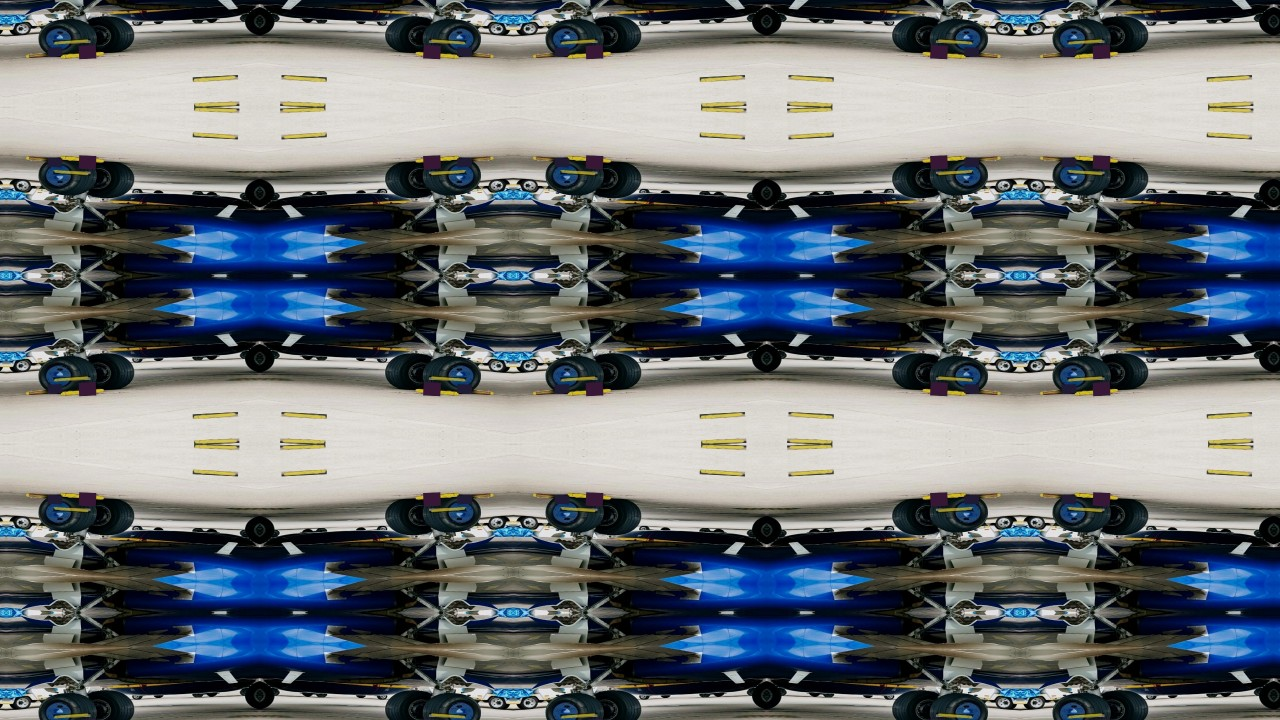chock: (59, 50, 106, 58), (412, 50, 459, 58), (567, 50, 614, 58), (920, 50, 967, 58), (1075, 50, 1122, 58), (59, 155, 106, 163), (412, 155, 459, 163), (567, 155, 614, 163), (920, 155, 967, 163), (1075, 155, 1122, 163), (59, 388, 106, 396), (412, 388, 459, 396), (567, 388, 614, 396), (920, 388, 967, 396), (1075, 388, 1122, 396), (59, 493, 106, 501), (412, 493, 459, 501), (567, 493, 614, 501), (920, 493, 967, 501), (1075, 493, 1122, 501), (192, 74, 237, 81), (281, 74, 326, 81), (700, 74, 745, 81), (789, 74, 834, 81), (1208, 74, 1253, 81), (192, 132, 237, 139), (281, 132, 326, 139), (700, 132, 745, 139), (789, 132, 834, 139), (1208, 132, 1253, 139), (192, 412, 237, 419), (281, 412, 326, 419), (700, 412, 745, 419), (789, 412, 834, 419), (1208, 412, 1253, 419), (192, 470, 237, 477), (281, 470, 326, 477), (700, 470, 745, 477), (789, 470, 834, 477), (1208, 470, 1253, 477), (23, 50, 64, 57), (454, 50, 495, 57), (531, 50, 572, 57), (962, 50, 1003, 57), (1039, 50, 1080, 57), (23, 156, 64, 163), (454, 156, 495, 163), (531, 156, 572, 163), (962, 156, 1003, 163), (1039, 156, 1080, 163), (23, 388, 64, 395), (454, 388, 495, 395), (531, 388, 572, 395), (962, 388, 1003, 395), (1039, 388, 1080, 395), (23, 494, 64, 501), (454, 494, 495, 501), (531, 494, 572, 501), (962, 494, 1003, 501), (1039, 494, 1080, 501), (193, 101, 238, 107), (280, 101, 325, 107), (701, 101, 746, 107), (788, 101, 833, 107), (1209, 101, 1254, 107), (193, 106, 238, 112), (280, 106, 325, 112), (701, 106, 746, 112), (788, 106, 833, 112), (1209, 106, 1254, 112), (193, 444, 238, 450), (280, 444, 325, 450), (701, 444, 746, 450), (788, 444, 833, 450), (1209, 444, 1254, 450), (52, 38, 90, 44), (428, 38, 466, 44), (560, 38, 598, 44), (936, 38, 974, 44), (1068, 38, 1106, 44), (52, 169, 90, 175), (428, 169, 466, 175), (560, 169, 598, 175), (936, 169, 974, 175), (1068, 169, 1106, 175), (52, 376, 90, 382), (428, 376, 466, 382), (560, 376, 598, 382), (936, 376, 974, 382), (1068, 376, 1106, 382), (52, 507, 90, 513), (428, 507, 466, 513), (560, 507, 598, 513), (936, 507, 974, 513), (1068, 507, 1106, 513), (52, 714, 90, 720), (428, 714, 466, 720), (560, 714, 598, 720), (936, 714, 974, 720), (1068, 714, 1106, 720), (193, 439, 238, 444), (280, 439, 325, 444), (701, 439, 746, 444), (788, 439, 833, 444), (1209, 439, 1254, 444)
wheel: (35, 16, 96, 56), (422, 16, 483, 56), (543, 16, 604, 56), (930, 16, 991, 56), (1051, 16, 1112, 56), (35, 157, 96, 197), (422, 157, 483, 197), (543, 157, 604, 197), (930, 157, 991, 197), (1051, 157, 1112, 197), (35, 354, 96, 394), (422, 354, 483, 394), (543, 354, 604, 394), (930, 354, 991, 394), (1051, 354, 1112, 394), (35, 495, 96, 535), (422, 495, 483, 535), (543, 495, 604, 535), (930, 495, 991, 535), (1051, 495, 1112, 535), (83, 14, 134, 52), (384, 14, 435, 52), (591, 14, 642, 52), (892, 14, 943, 52), (1099, 14, 1150, 52), (83, 161, 134, 199), (384, 161, 435, 199), (591, 161, 642, 199), (892, 161, 943, 199), (1099, 161, 1150, 199), (83, 352, 134, 390), (384, 352, 435, 390), (591, 352, 642, 390), (892, 352, 943, 390), (1099, 352, 1150, 390), (83, 499, 134, 537), (384, 499, 435, 537), (591, 499, 642, 537), (892, 499, 943, 537), (1099, 499, 1150, 537), (35, 692, 96, 720), (422, 692, 483, 720), (543, 692, 604, 720), (930, 692, 991, 720), (1051, 692, 1112, 720), (83, 690, 134, 720), (384, 690, 435, 720), (591, 690, 642, 720), (892, 690, 943, 720), (1099, 690, 1150, 720), (243, 4, 259, 35), (259, 4, 275, 35), (751, 4, 767, 35), (767, 4, 783, 35), (1259, 4, 1275, 35), (243, 178, 259, 209), (259, 178, 275, 209), (751, 178, 767, 209), (767, 178, 783, 209), (1259, 178, 1275, 209), (243, 342, 259, 373), (259, 342, 275, 373), (751, 342, 767, 373), (767, 342, 783, 373), (1259, 342, 1275, 373), (243, 516, 259, 547), (259, 516, 275, 547), (751, 516, 767, 547), (767, 516, 783, 547), (1259, 516, 1275, 547), (243, 680, 259, 711), (259, 680, 275, 711), (751, 680, 767, 711), (767, 680, 783, 711), (1259, 680, 1275, 711), (8, 21, 30, 35), (488, 21, 510, 35), (516, 21, 538, 35), (996, 21, 1018, 35), (1024, 21, 1046, 35), (8, 178, 30, 192), (488, 178, 510, 192), (516, 178, 538, 192), (996, 178, 1018, 192), (1024, 178, 1046, 192), (8, 359, 30, 373), (488, 359, 510, 373), (516, 359, 538, 373), (996, 359, 1018, 373), (1024, 359, 1046, 373), (8, 516, 30, 530), (488, 516, 510, 530), (516, 516, 538, 530), (996, 516, 1018, 530), (1024, 516, 1046, 530), (8, 697, 30, 711), (488, 697, 510, 711), (516, 697, 538, 711), (996, 697, 1018, 711), (1024, 697, 1046, 711), (1275, 4, 1280, 35), (1275, 178, 1280, 209), (1275, 342, 1280, 373), (1275, 516, 1280, 547), (1275, 680, 1280, 711), (238, 13, 247, 21), (271, 13, 280, 21), (746, 13, 755, 21), (779, 13, 788, 21), (1254, 13, 1263, 21), (238, 192, 247, 200), (271, 192, 280, 200), (746, 192, 755, 200), (779, 192, 788, 200), (1254, 192, 1263, 200), (238, 351, 247, 359), (271, 351, 280, 359), (746, 351, 755, 359), (779, 351, 788, 359), (1254, 351, 1263, 359), (238, 530, 247, 538), (271, 530, 280, 538), (746, 530, 755, 538), (779, 530, 788, 538), (1254, 530, 1263, 538), (238, 689, 247, 697), (271, 689, 280, 697), (746, 689, 755, 697), (779, 689, 788, 697), (1254, 689, 1263, 697), (8, 28, 18, 34), (500, 28, 510, 34), (516, 28, 526, 34), (1008, 28, 1018, 34), (1024, 28, 1034, 34), (8, 179, 18, 185), (500, 179, 510, 185), (516, 179, 526, 185), (1008, 179, 1018, 185), (1024, 179, 1034, 185), (8, 366, 18, 372), (500, 366, 510, 372), (516, 366, 526, 372), (1008, 366, 1018, 372), (1024, 366, 1034, 372), (8, 517, 18, 523), (500, 517, 510, 523), (516, 517, 526, 523), (1008, 517, 1018, 523), (1024, 517, 1034, 523), (8, 704, 18, 710), (500, 704, 510, 710), (516, 704, 526, 710), (1008, 704, 1018, 710), (1024, 704, 1034, 710), (191, 18, 202, 22), (316, 18, 327, 22), (699, 18, 710, 22), (824, 18, 835, 22), (1207, 18, 1218, 22), (191, 191, 202, 195), (316, 191, 327, 195), (699, 191, 710, 195), (824, 191, 835, 195), (1207, 191, 1218, 195), (191, 356, 202, 360), (316, 356, 327, 360), (699, 356, 710, 360), (824, 356, 835, 360), (1207, 356, 1218, 360), (191, 529, 202, 533), (316, 529, 327, 533), (699, 529, 710, 533), (824, 529, 835, 533), (1207, 529, 1218, 533), (191, 694, 202, 698), (316, 694, 327, 698), (699, 694, 710, 698), (824, 694, 835, 698), (1207, 694, 1218, 698), (131, 20, 141, 24), (377, 20, 387, 24), (639, 20, 649, 24), (885, 20, 895, 24), (1147, 20, 1157, 24), (131, 189, 141, 193), (377, 189, 387, 193), (639, 189, 649, 193), (885, 189, 895, 193), (1147, 189, 1157, 193), (131, 358, 141, 362), (377, 358, 387, 362), (639, 358, 649, 362), (885, 358, 895, 362), (1147, 358, 1157, 362), (131, 527, 141, 531), (377, 527, 387, 531), (639, 527, 649, 531), (885, 527, 895, 531), (1147, 527, 1157, 531), (131, 696, 141, 700), (377, 696, 387, 700), (639, 696, 649, 700), (885, 696, 895, 700), (1147, 696, 1157, 700), (205, 18, 216, 21), (302, 18, 313, 21), (713, 18, 724, 21), (810, 18, 821, 21), (1221, 18, 1232, 21), (205, 192, 216, 195), (302, 192, 313, 195), (713, 192, 724, 195), (810, 192, 821, 195), (1221, 192, 1232, 195), (205, 356, 216, 359), (302, 356, 313, 359), (713, 356, 724, 359), (810, 356, 821, 359), (1221, 356, 1232, 359), (205, 530, 216, 533), (302, 530, 313, 533), (713, 530, 724, 533), (810, 530, 821, 533), (1221, 530, 1232, 533), (205, 694, 216, 697), (302, 694, 313, 697), (713, 694, 724, 697), (810, 694, 821, 697), (1221, 694, 1232, 697), (152, 20, 162, 23), (356, 20, 366, 23), (660, 20, 670, 23), (864, 20, 874, 23), (1168, 20, 1178, 23), (152, 190, 162, 193), (356, 190, 366, 193), (660, 190, 670, 193), (864, 190, 874, 193), (1168, 190, 1178, 193), (152, 358, 162, 361), (356, 358, 366, 361), (660, 358, 670, 361), (864, 358, 874, 361), (1168, 358, 1178, 361), (152, 528, 162, 531), (356, 528, 366, 531), (660, 528, 670, 531), (864, 528, 874, 531), (1168, 528, 1178, 531), (152, 696, 162, 699), (356, 696, 366, 699), (660, 696, 670, 699), (864, 696, 874, 699), (1168, 696, 1178, 699), (29, 24, 36, 27), (482, 24, 489, 27), (537, 24, 544, 27), (990, 24, 997, 27), (1045, 24, 1052, 27), (29, 186, 36, 189), (482, 186, 489, 189), (537, 186, 544, 189), (990, 186, 997, 189), (1045, 186, 1052, 189), (29, 362, 36, 365), (482, 362, 489, 365), (537, 362, 544, 365), (990, 362, 997, 365), (1045, 362, 1052, 365), (29, 524, 36, 527), (482, 524, 489, 527), (537, 524, 544, 527), (990, 524, 997, 527), (1045, 524, 1052, 527), (29, 700, 36, 703), (482, 700, 489, 703), (537, 700, 544, 703), (990, 700, 997, 703), (1045, 700, 1052, 703), (0, 28, 2, 34), (0, 179, 2, 185), (0, 366, 2, 372), (0, 517, 2, 523), (0, 704, 2, 710)
